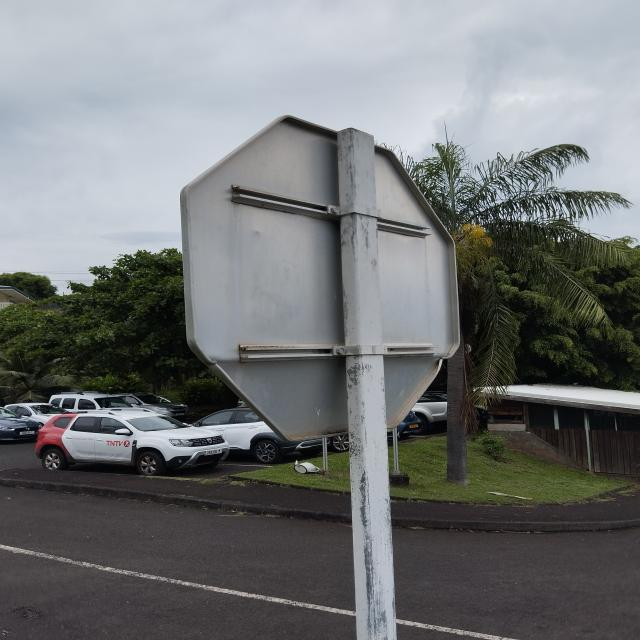Panneau: (186, 108, 462, 448)
